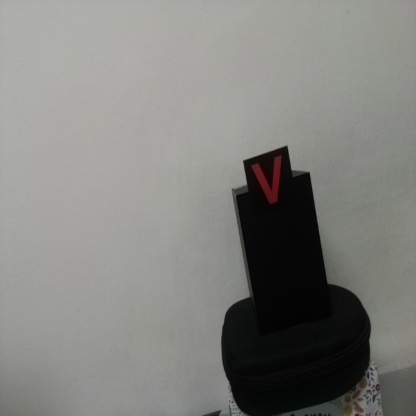id_11: (244, 156, 292, 212)
